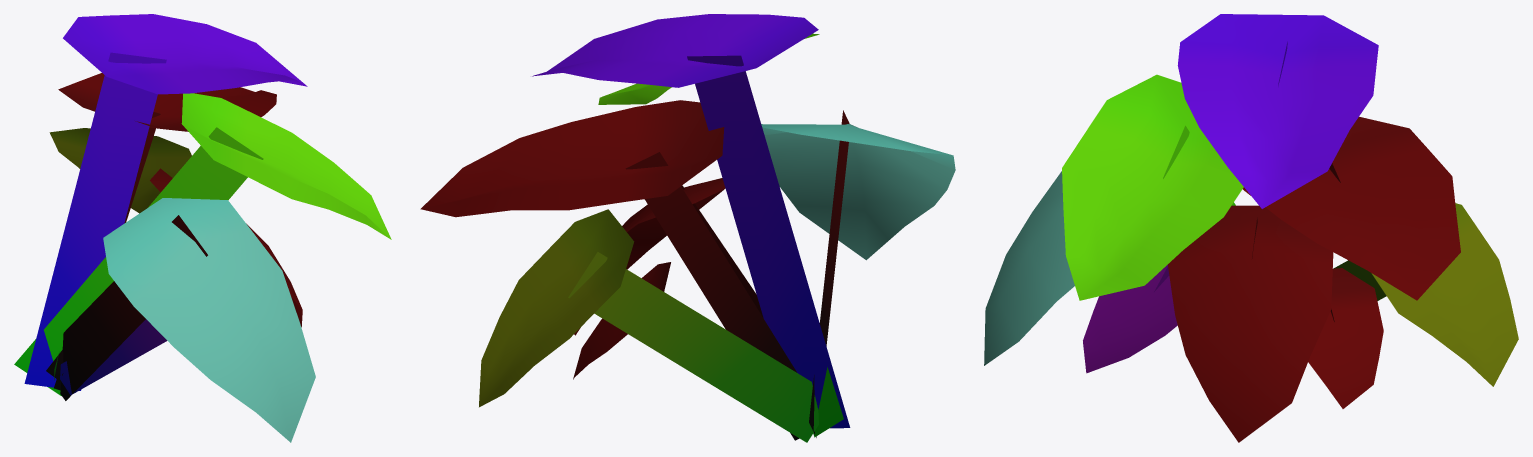
File: Elephant_ear_var3.fbx
The picture shows the model from 3 angles, left to right: view 1: azimuth 30°, elevation 25°; view 2: azimuth 150°, elevation 25°; view 3: azimuth 270°, elevation 25°; orthographic projection. The views are drawn at different scales.
Parts seen in each view (by area): view 1: Elephant_Ear_var3_LOD0; view 2: Elephant_Ear_var3_LOD0; view 3: Elephant_Ear_var3_LOD0.
Boxes of the visible parts, left/top/right/bottom form: Elephant_Ear_var3_LOD0: left=14, top=14, right=391, bottom=442; Elephant_Ear_var3_LOD0: left=420, top=14, right=955, bottom=442; Elephant_Ear_var3_LOD0: left=984, top=14, right=1518, bottom=442.
Size of what is drawn, in the model's own units: 8.88 by 9.18 by 12.59.
